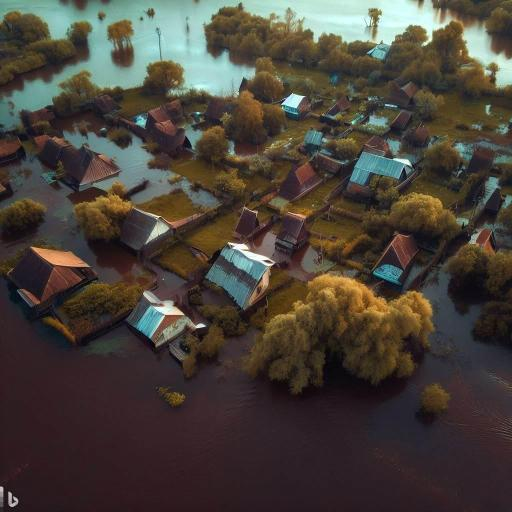flood: (0, 273, 512, 512), (0, 0, 253, 126), (0, 112, 177, 284), (242, 0, 512, 79), (248, 231, 352, 282), (151, 263, 201, 304), (176, 116, 219, 149), (456, 140, 512, 164), (387, 132, 420, 164), (182, 180, 218, 206), (486, 172, 512, 205), (228, 136, 265, 156), (202, 289, 236, 307), (129, 112, 148, 128), (458, 208, 473, 224), (369, 114, 388, 125)
house: (5, 244, 99, 314), (124, 289, 197, 353), (206, 240, 271, 310), (369, 228, 429, 289), (120, 201, 178, 261), (346, 151, 414, 193), (282, 154, 344, 199), (60, 148, 123, 188), (147, 104, 191, 154), (272, 211, 312, 255), (37, 136, 74, 168), (0, 132, 26, 172), (279, 92, 311, 120), (300, 126, 327, 154), (24, 106, 54, 131), (366, 38, 393, 64), (494, 150, 512, 182)
